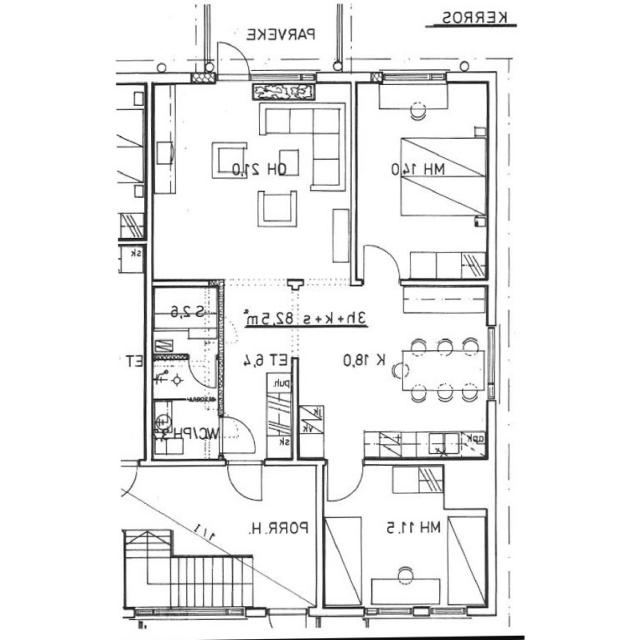door: (364, 242, 400, 286), (328, 458, 363, 502), (218, 417, 260, 453), (228, 458, 262, 502), (218, 39, 250, 83), (189, 353, 216, 389)
